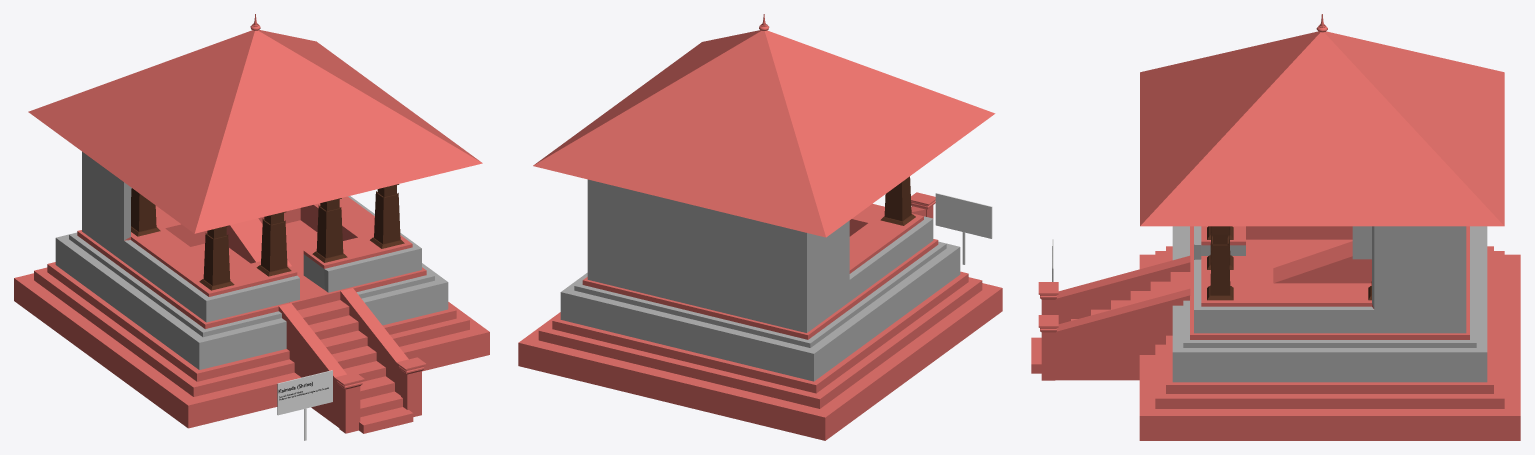
File: Kaimada.glb
3 renders of one model, left to right at view 1: azimuth 30°, elevation 25°; view 2: azimuth 150°, elevation 25°; view 3: azimuth 270°, elevation 25°, orthographic. The views are drawn at different scales.
Visible parts, largest first — view 1: Bakka pore, Plane, Stair, Stair Rail, Pillar, StairPIl, Plane.002, Pillar3, Pillar2, Bakka pore.002, Pillar.001; view 2: Bakka pore, Plane, Plane.002, Pillar; view 3: Bakka pore, Plane, Stair Rail, Bakka pore.002, Stair, StairPIl, Pillar, Bakka pore.001.
Boxes of the visible parts, left/top/right/bottom form: Bakka pore: left=14, top=151, right=489, bottom=428; Plane: left=28, top=30, right=482, bottom=233; Stair: left=289, top=287, right=413, bottom=433; Stair Rail: left=278, top=288, right=408, bottom=427; Pillar: left=199, top=184, right=404, bottom=290; StairPIl: left=334, top=357, right=426, bottom=433; Plane.002: left=277, top=370, right=332, bottom=440; Pillar3: left=256, top=211, right=291, bottom=276; Pillar2: left=312, top=198, right=347, bottom=262; Bakka pore.002: left=226, top=218, right=291, bottom=266; Pillar.001: left=131, top=188, right=160, bottom=236; Bakka pore: left=518, top=179, right=1002, bottom=440; Plane: left=533, top=30, right=995, bottom=237; Plane.002: left=935, top=193, right=992, bottom=264; Pillar: left=880, top=176, right=915, bottom=225; Bakka pore: left=1139, top=226, right=1520, bottom=440; Plane: left=1140, top=31, right=1504, bottom=226; Stair Rail: left=1055, top=255, right=1190, bottom=380; Bakka pore.002: left=1273, top=241, right=1371, bottom=283; Stair: left=1031, top=262, right=1193, bottom=373; StairPIl: left=1038, top=282, right=1058, bottom=380; Pillar: left=1207, top=226, right=1233, bottom=300; Bakka pore.001: left=1352, top=226, right=1371, bottom=259.
Size of the model in its own units: 2.84 by 2.86 by 3.64.
